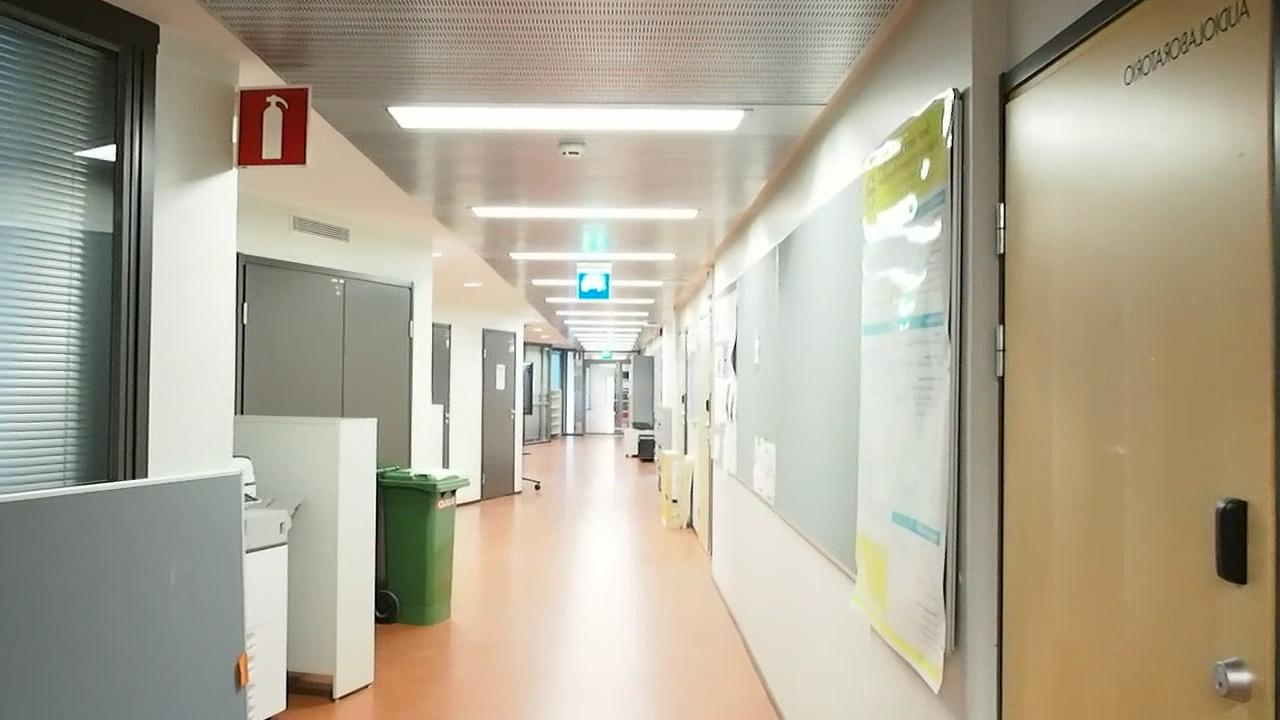fireextinguisher: (237, 83, 307, 168)
trashbin: (381, 466, 464, 623)
